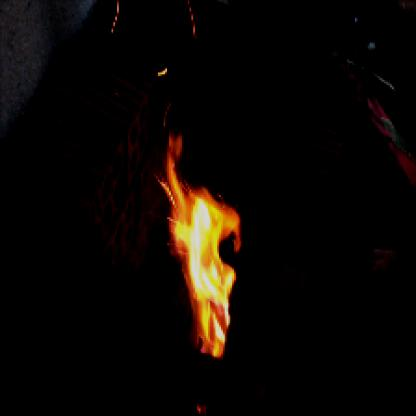Fire: (152, 123, 247, 360)
